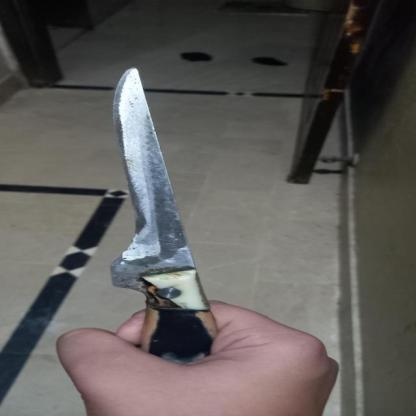Knife: (94, 54, 245, 372)
